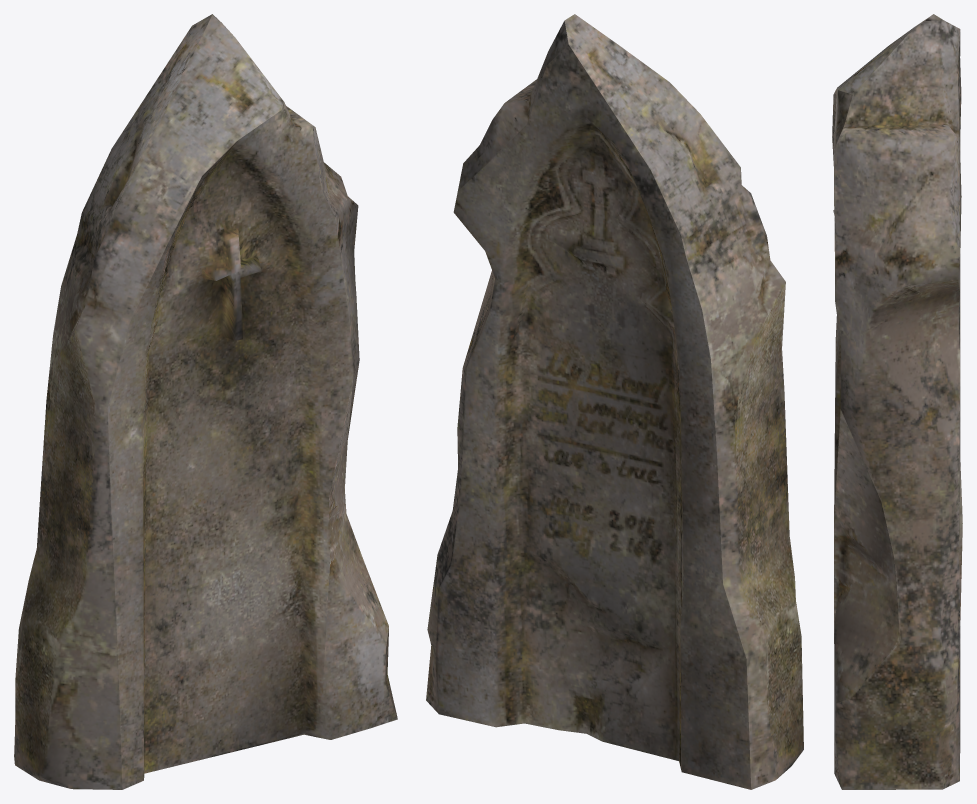
The model's file is SM_TombStone10.FBX.
3 renders of one model, left to right at view 1: azimuth 30°, elevation 25°; view 2: azimuth 150°, elevation 25°; view 3: azimuth 270°, elevation 25°, orthographic. The views are drawn at different scales.
Visible parts, largest first — view 1: SM_TombStone10; view 2: SM_TombStone10; view 3: SM_TombStone10.
Boxes of the visible parts, x1,y1,x2,y2 form: SM_TombStone10: [14, 14, 397, 789]; SM_TombStone10: [426, 14, 803, 789]; SM_TombStone10: [832, 14, 962, 789].
Bounding box in the file's own units: 99.1 × 33 × 197.
